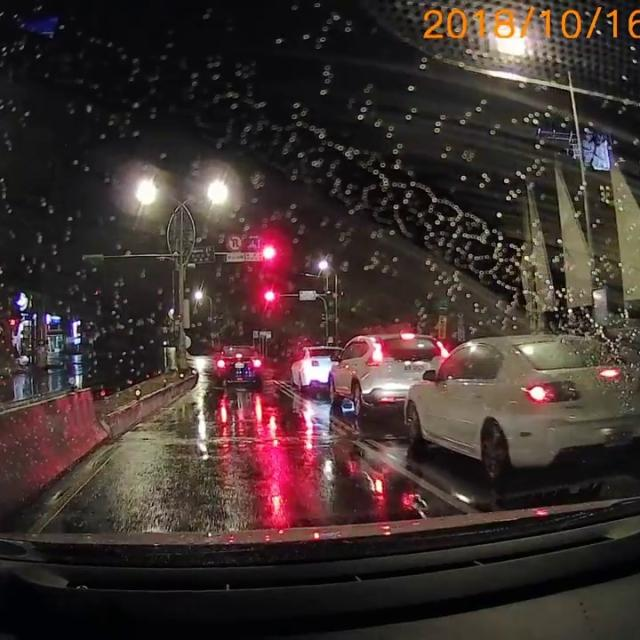Car: (401, 330, 639, 480), (325, 331, 449, 416), (289, 343, 345, 397), (213, 344, 261, 386)
